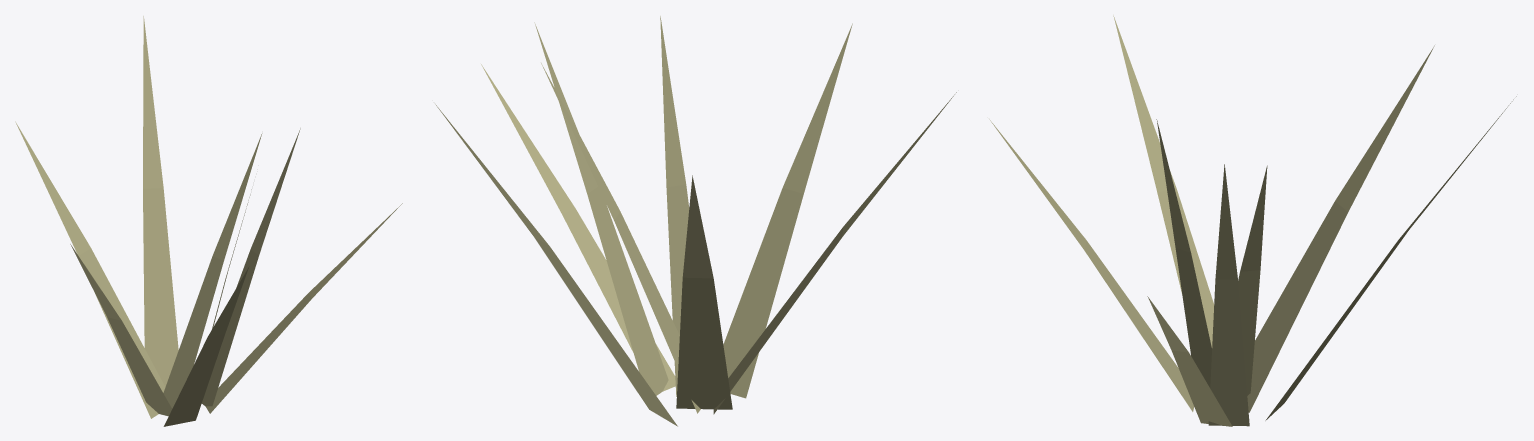
File: grass_tuft_b_LOD0.fbx
3 views of the same model, side by side, from view 1: azimuth 30°, elevation 25°; view 2: azimuth 150°, elevation 25°; view 3: azimuth 270°, elevation 25° (orthographic). The views are drawn at different scales.
Parts seen in each view (by area): view 1: grass_tuft; view 2: grass_tuft; view 3: grass_tuft.
Boxes of the visible parts, bbox=[...] form: grass_tuft: bbox=[15, 16, 402, 426]; grass_tuft: bbox=[435, 16, 956, 426]; grass_tuft: bbox=[989, 15, 1516, 426].
Size of the model in its own units: 74.55 by 60 by 78.68.
